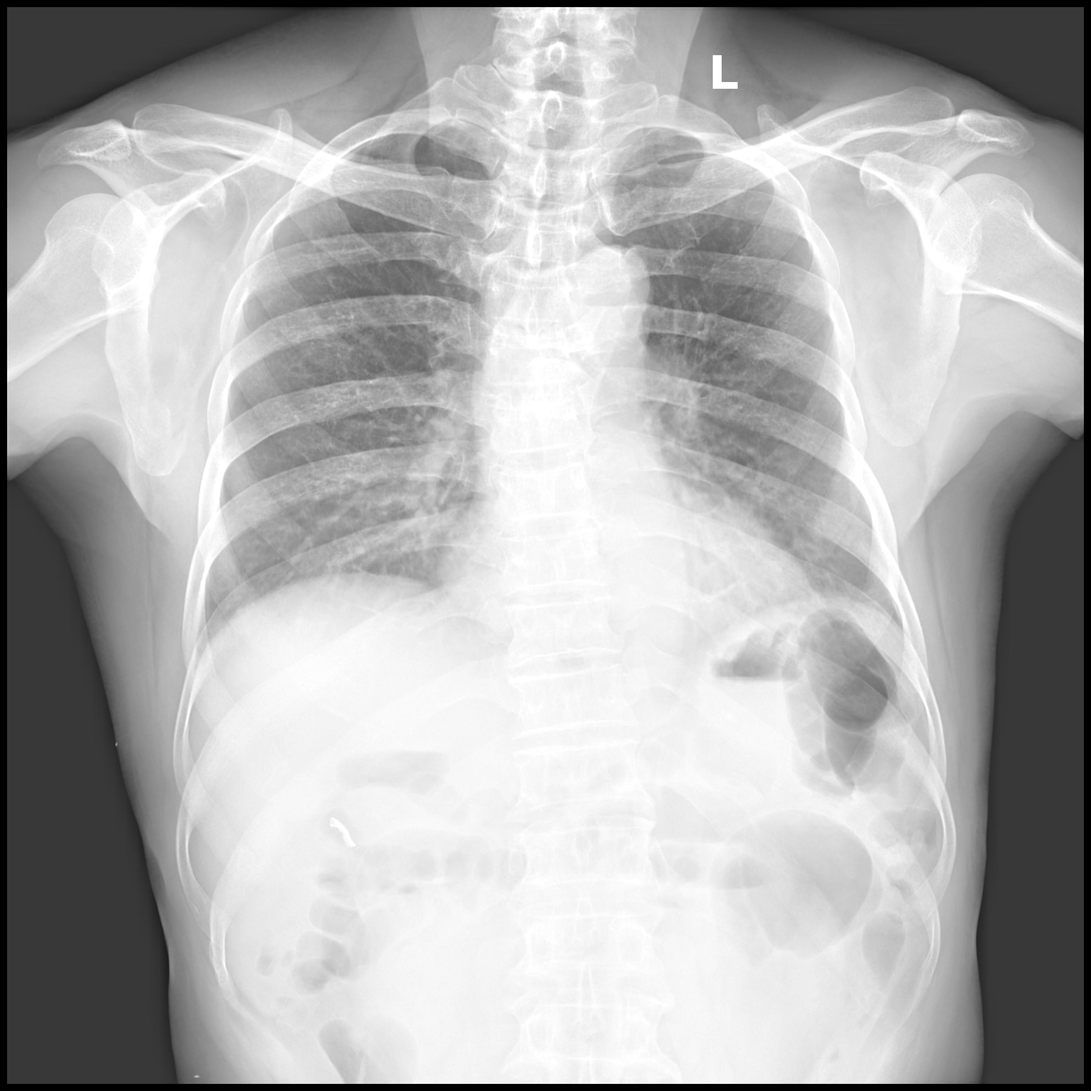Aortic enlargement: (557, 237, 653, 330)
Cardiomegaly: (422, 509, 824, 636)
